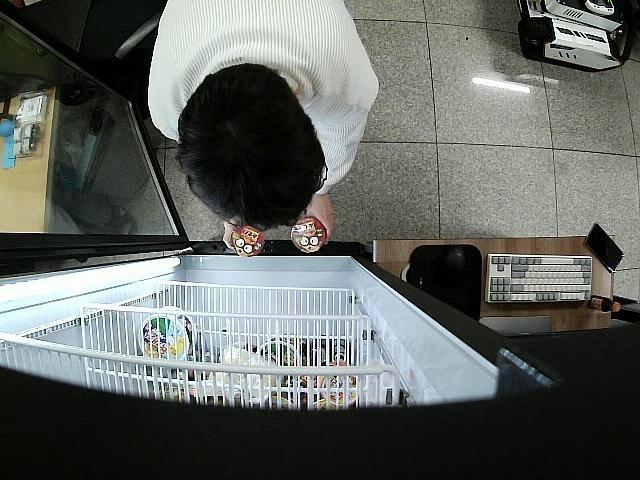06_nuguri_S: (291, 219, 327, 252), (233, 224, 266, 258)
